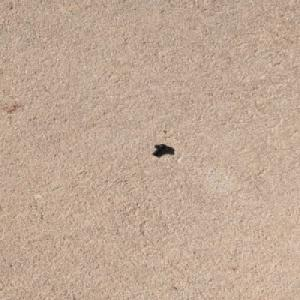BoltWasher: (150, 143, 169, 155)
